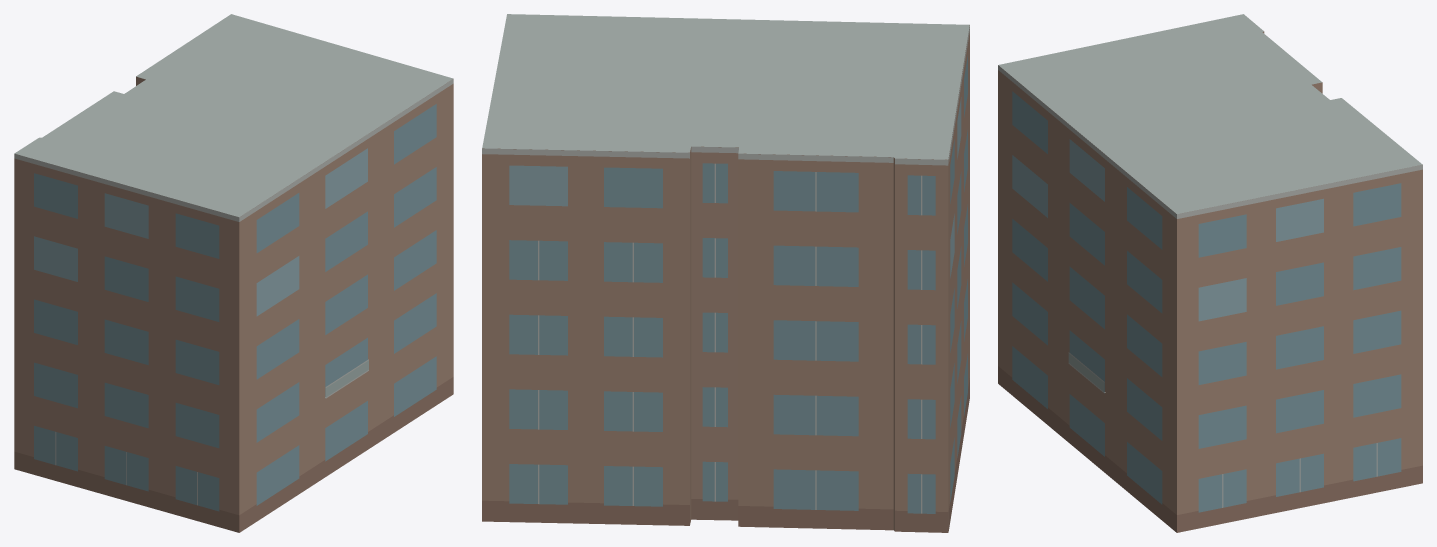
The model's file is survey-upis-32939633.glb.
The picture shows the model from 3 angles, left to right: view 1: azimuth 30°, elevation 25°; view 2: azimuth 150°, elevation 25°; view 3: azimuth 270°, elevation 25°; orthographic projection. The views are drawn at different scales.
Parts seen in each view (by area): view 1: survey-upis-32939633.tmp; view 2: survey-upis-32939633.tmp; view 3: survey-upis-32939633.tmp.
Boxes of the visible parts, left/top/right/bottom form: survey-upis-32939633.tmp: left=14, top=14, right=453, bottom=532; survey-upis-32939633.tmp: left=482, top=14, right=969, bottom=532; survey-upis-32939633.tmp: left=998, top=14, right=1422, bottom=532.
Size of the model in its own units: 21.37 by 15.85 by 19.15.
